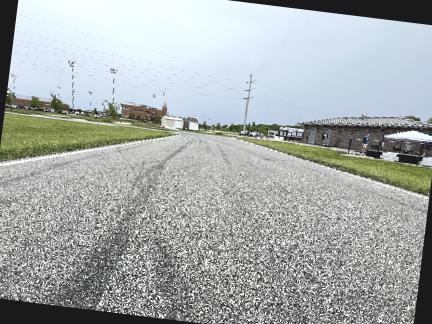Grass: (244, 139, 431, 195), (0, 115, 173, 161)
Lane: (0, 134, 428, 323)
